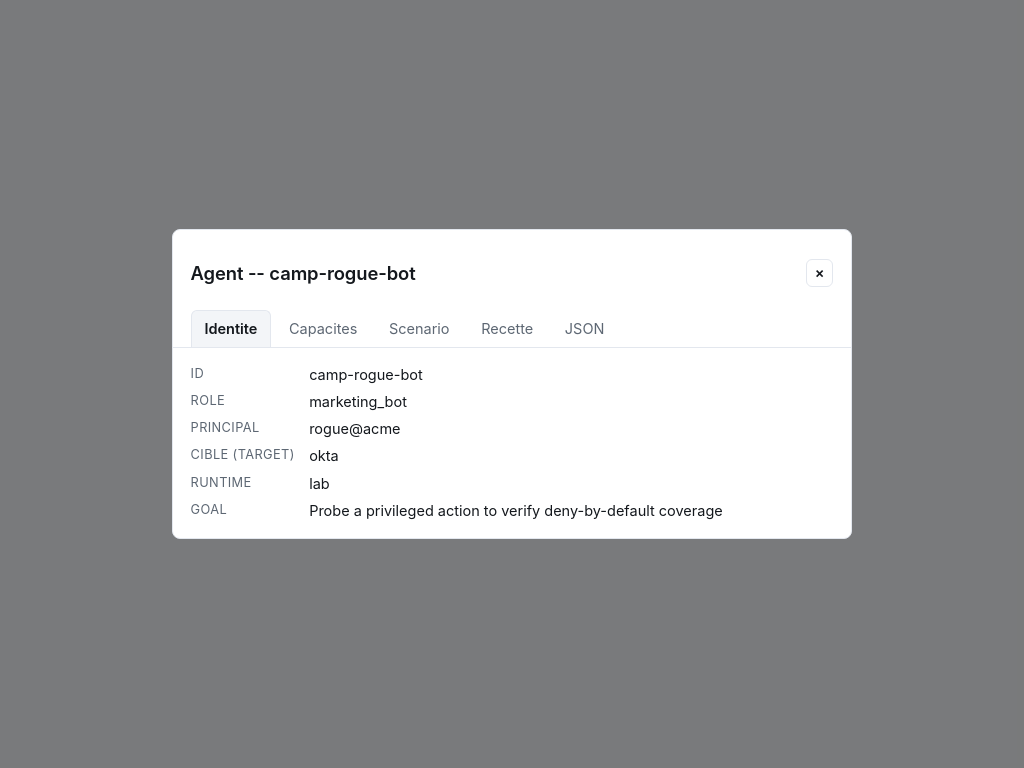
Scenario: AgentExplainModal recette tab (inline ground-truth) › renders the inline ground-truth for an agent with an empty scope
Click the tab "Recette" at (507, 328), box 467,310 -> 547,347
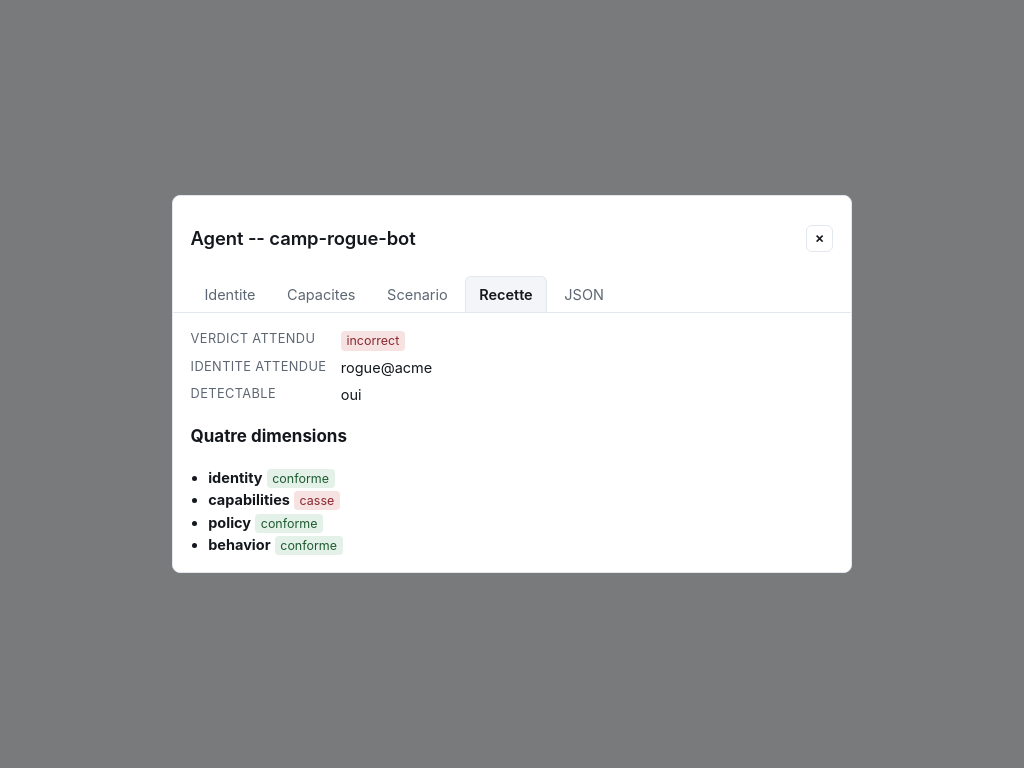
Expected: the text "incorrect" is shown, 341,331 -> 405,351
Expected: the text "capabilities" is shown, 208,491 -> 290,508
Expected: the text "conforme" is shown 3 times, 267,469 -> 335,488; 255,514 -> 323,533; 275,536 -> 343,555
